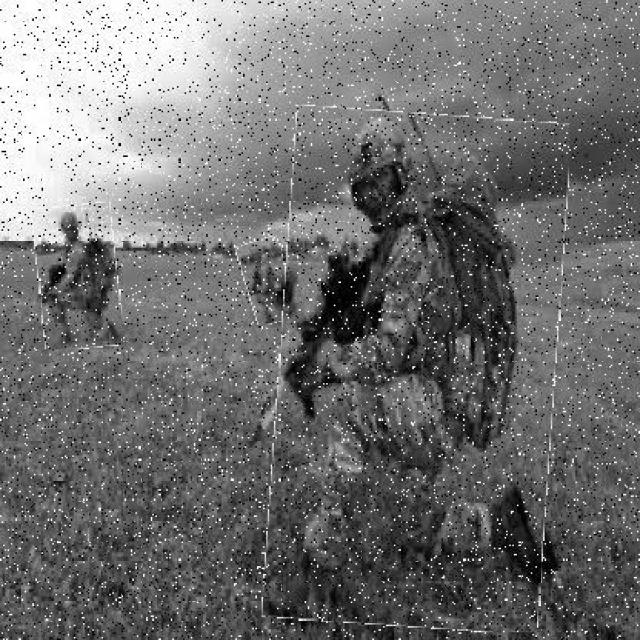Person: (272, 110, 564, 632), (36, 204, 121, 350), (243, 240, 297, 326)
